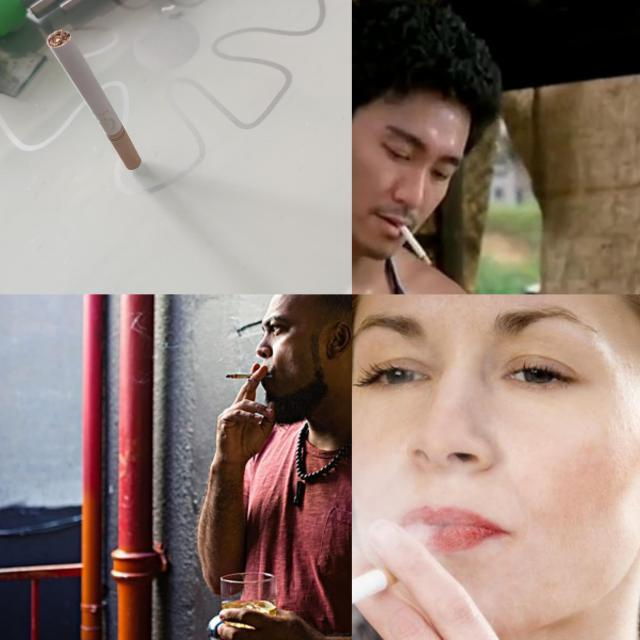cigarette: (48, 29, 144, 170), (352, 560, 409, 626), (397, 221, 434, 267), (222, 367, 272, 386)
